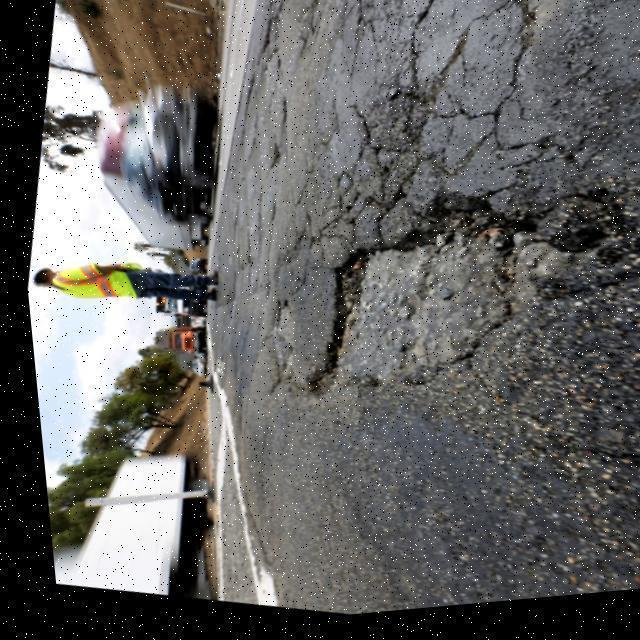Pothole: (304, 182, 640, 402)
